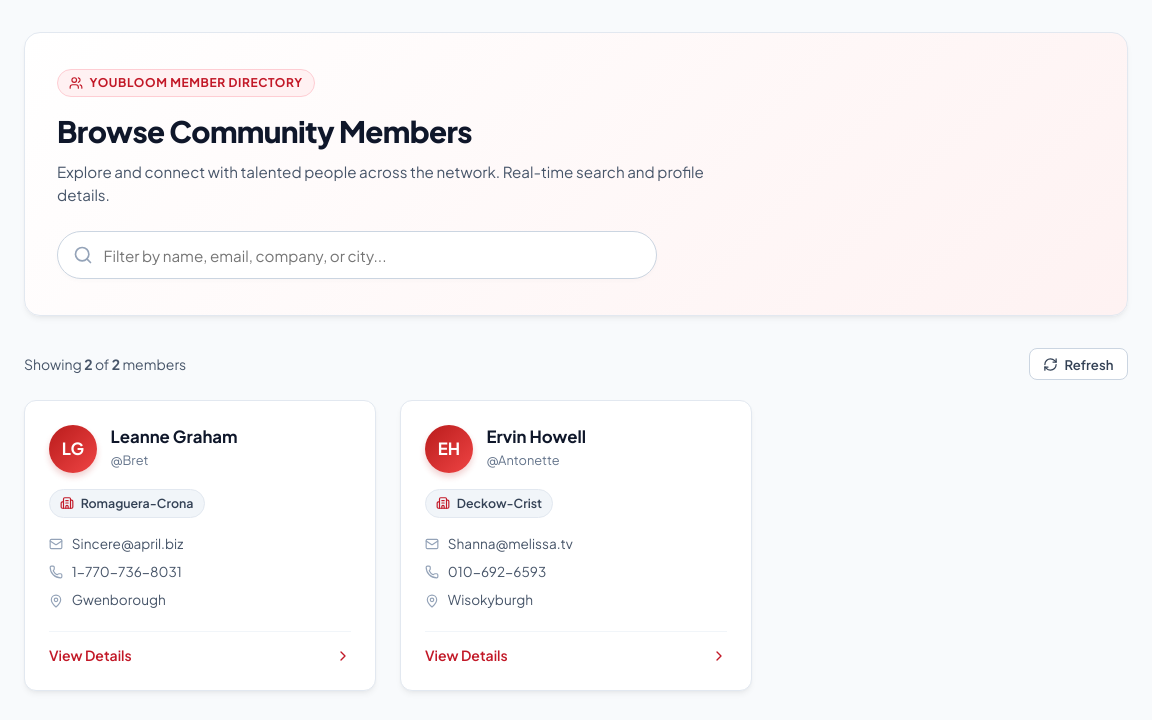
Test: MainPage Component › filters users dynamically when typing in search input
Check: the heading "Leanne Graham" is shown, box [111,426,238,448]
Type "Ervin" into the field with test id "search-input" at (357, 255), box [57,231,657,279]
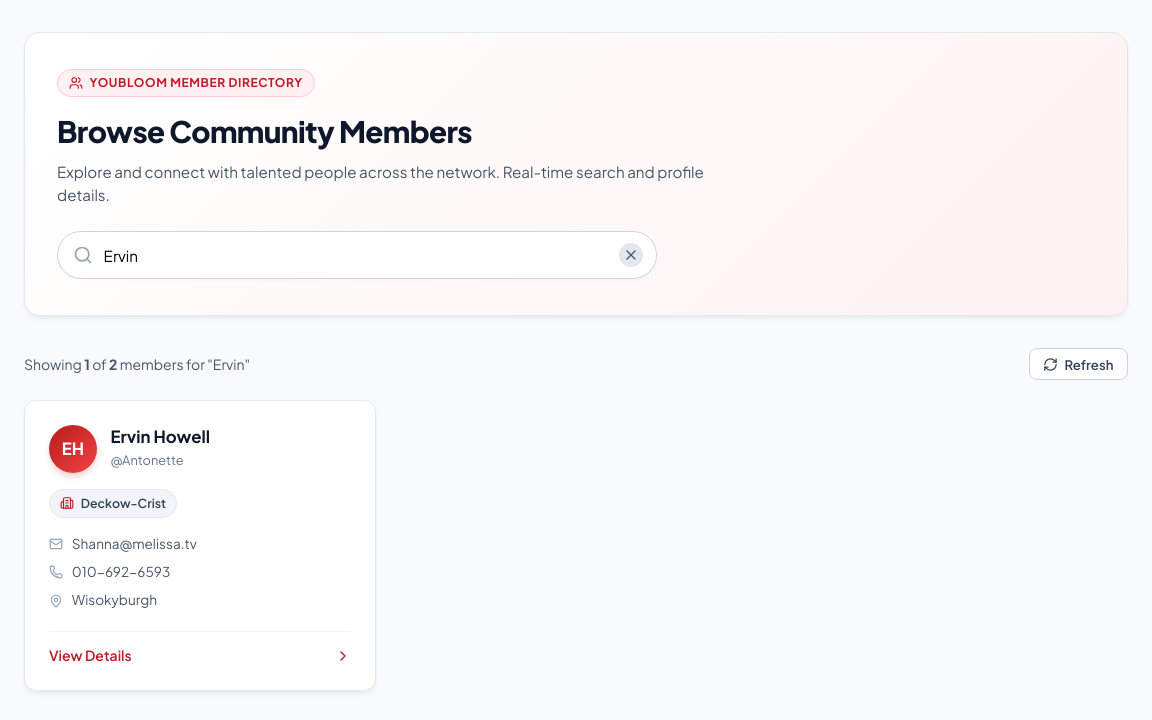
Check: the heading "Ervin Howell" is shown, box [111,426,210,448]
Check: the heading "Leanne Graham" is gone
Check: the element with test id "results-counter" shows "Showing 1 of 2 members", box [24,354,250,375]
